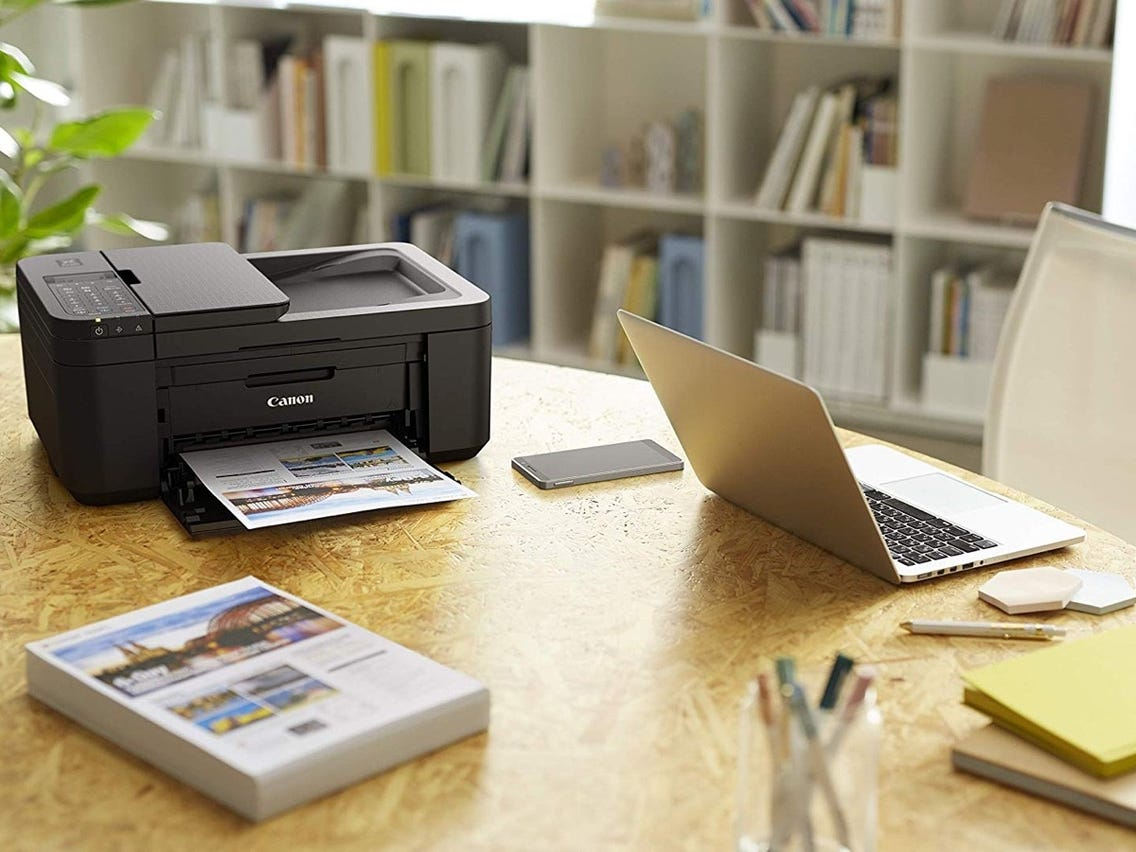printer: (10, 226, 506, 537)
